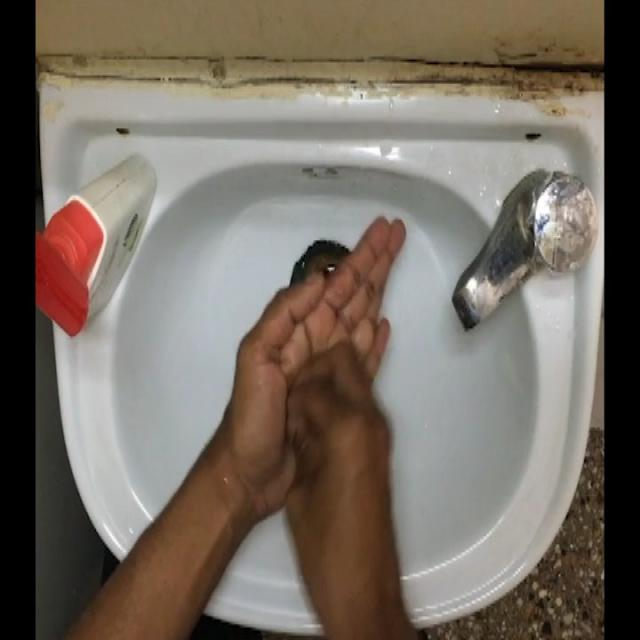step_6: (229, 204, 412, 574)
